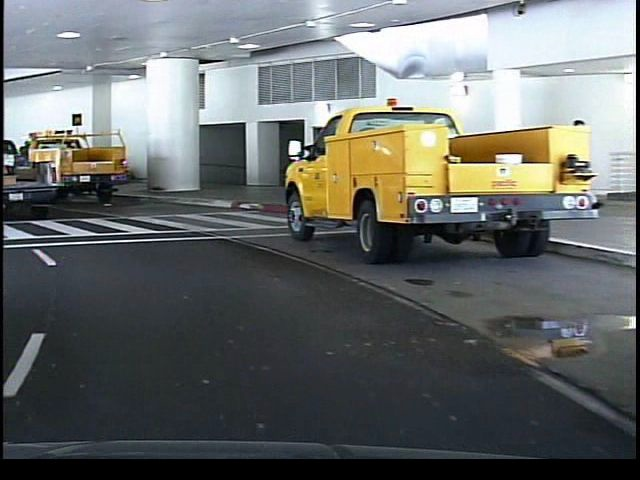person: (562, 111, 596, 218)
